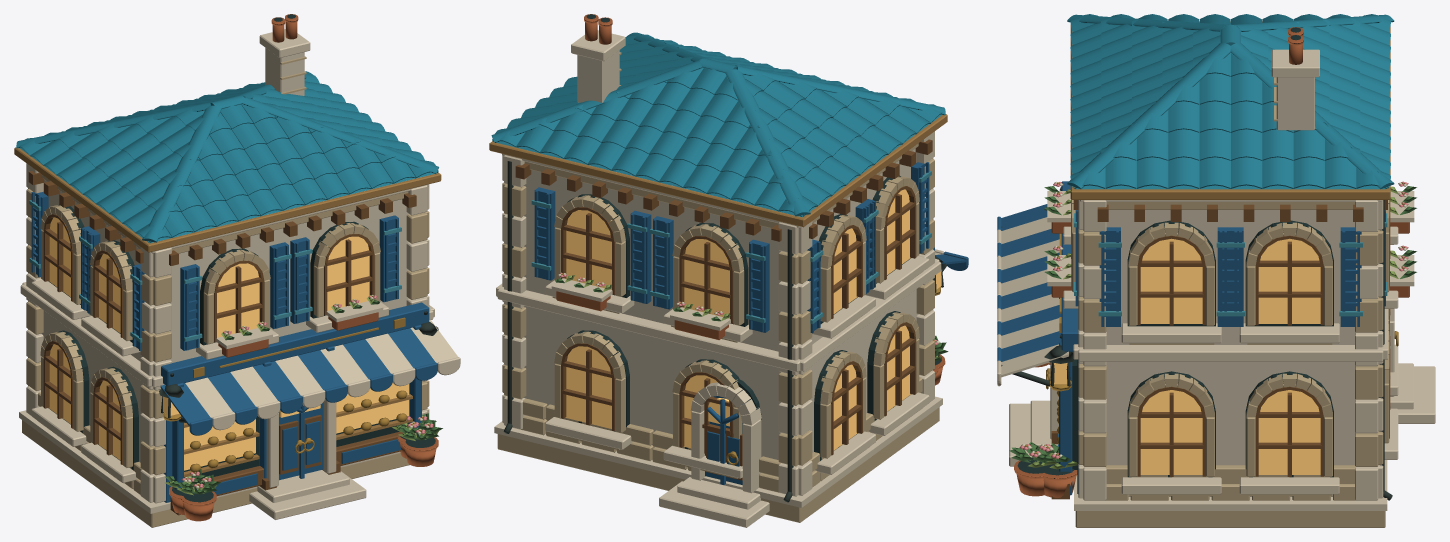
3 renders of one model, left to right at view 1: azimuth 30°, elevation 25°; view 2: azimuth 150°, elevation 25°; view 3: azimuth 270°, elevation 25°, orthographic. The views are drawn at different scales.
Parts seen in each view (by area): view 1: harbor_shop_2_geometry, harbor_shop_2_geometry ceramic; view 2: harbor_shop_2_geometry, harbor_shop_2_geometry ceramic; view 3: harbor_shop_2_geometry, harbor_shop_2_geometry ceramic.
Boxes of the visible parts, bbox=[...] form: harbor_shop_2_geometry: bbox=[14, 14, 460, 527]; harbor_shop_2_geometry ceramic: bbox=[16, 71, 438, 342]; harbor_shop_2_geometry: bbox=[489, 14, 968, 527]; harbor_shop_2_geometry ceramic: bbox=[491, 32, 945, 324]; harbor_shop_2_geometry: bbox=[997, 21, 1435, 527]; harbor_shop_2_geometry ceramic: bbox=[1067, 14, 1394, 316].
Size of the model in its own units: 0.9369 by 1.15 by 0.99.
